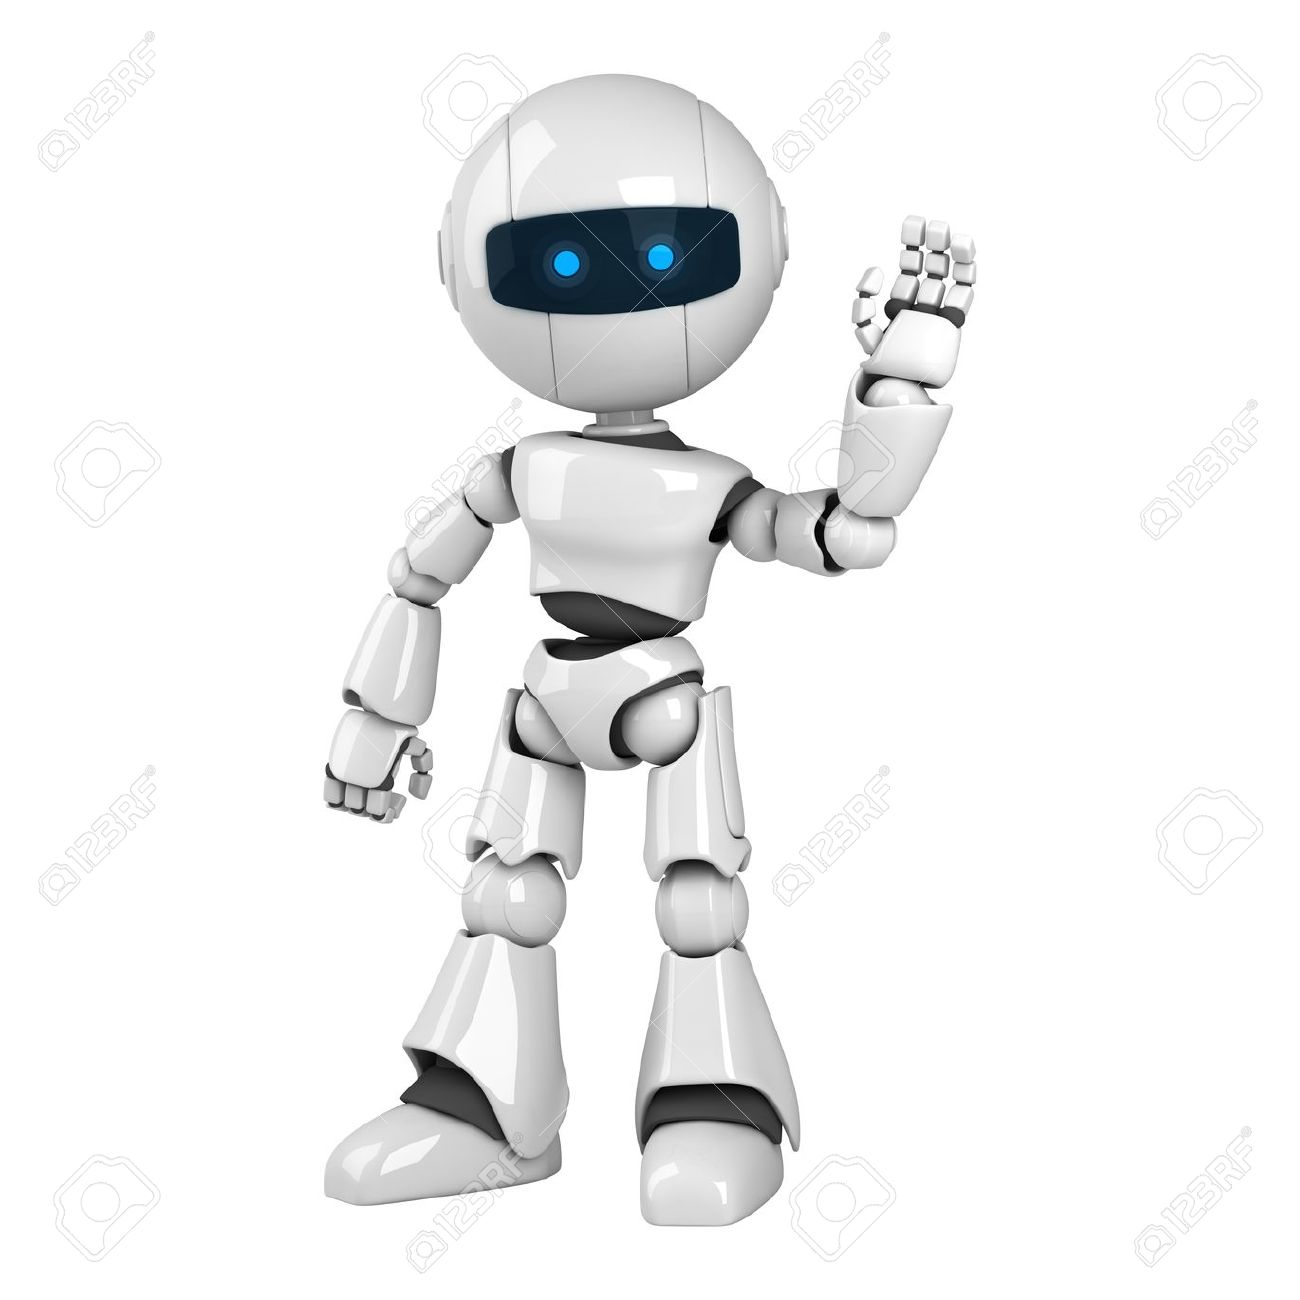person-like: (289, 56, 993, 1245)
